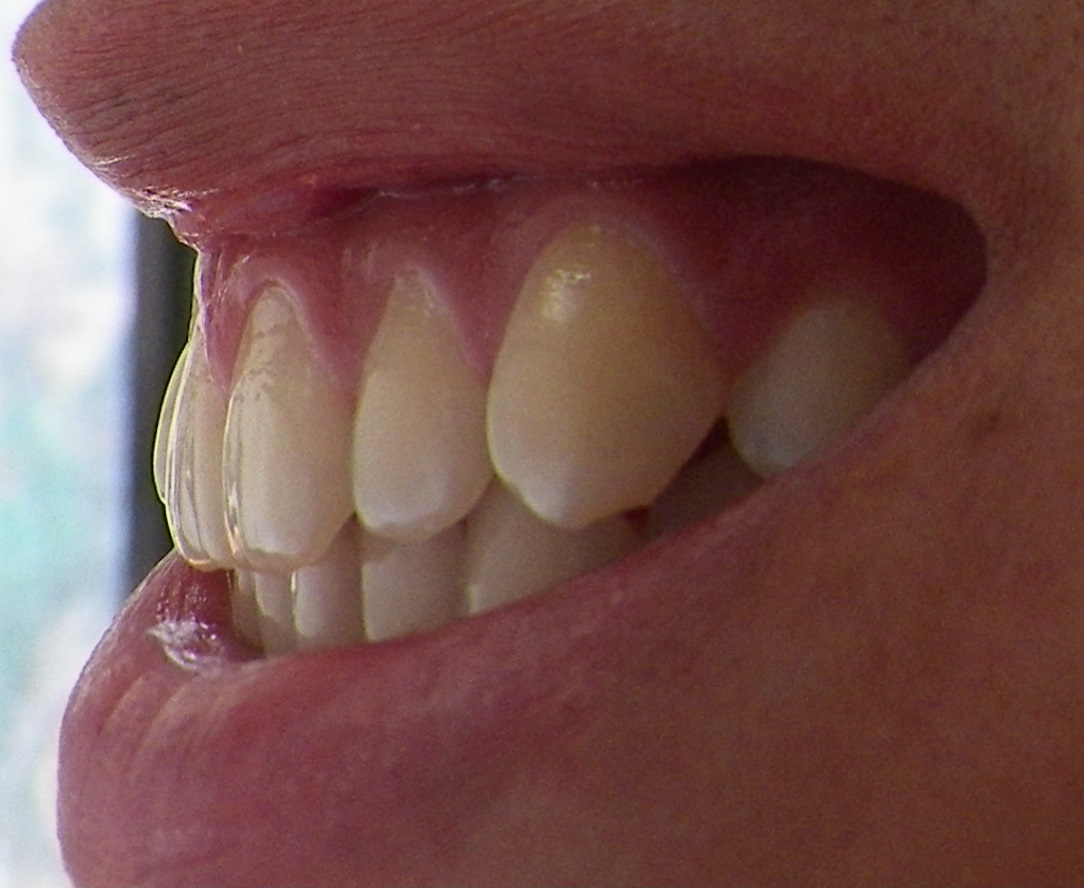boca: (155, 217, 913, 675)
